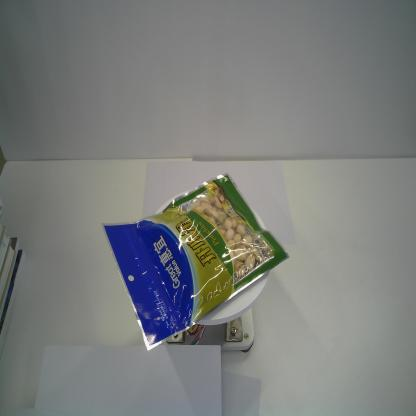Dried Fruit: (100, 170, 293, 350)
